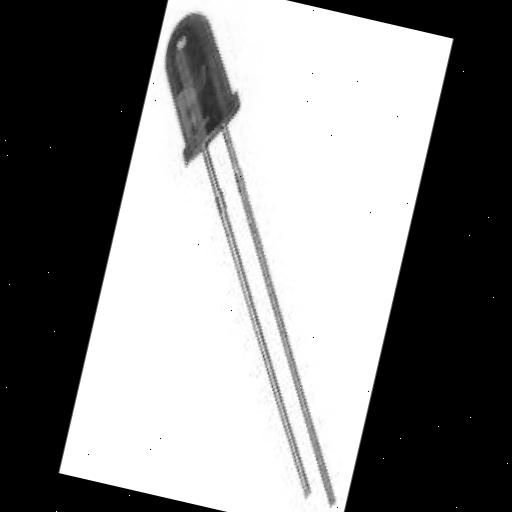LED: (73, 3, 437, 509)
